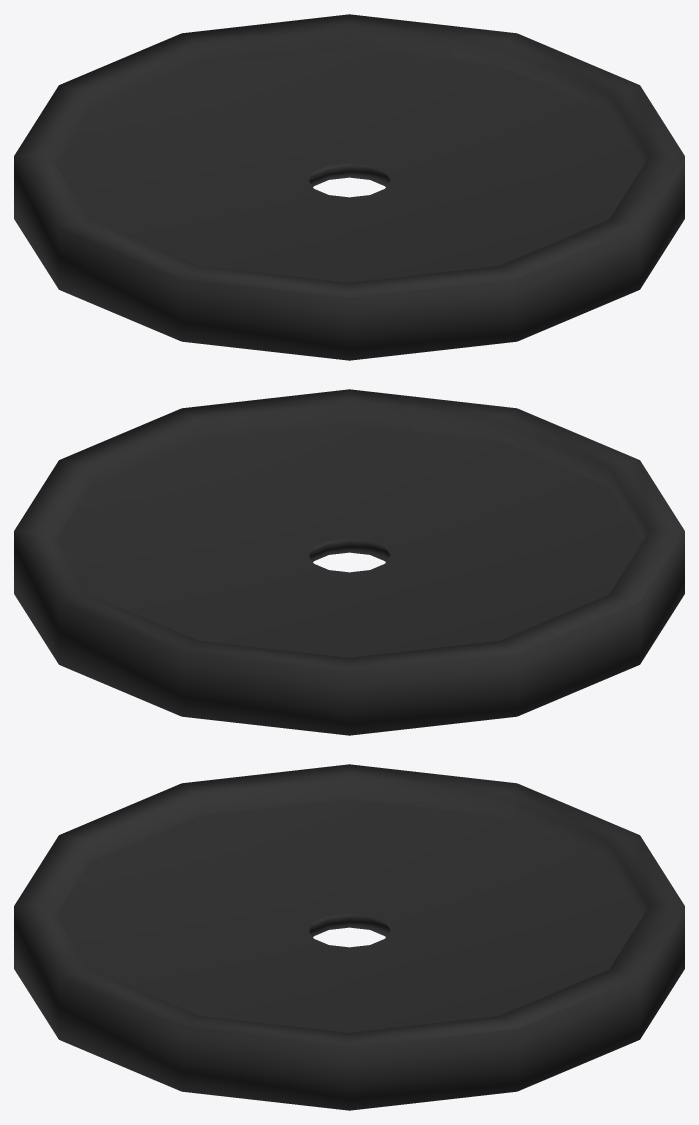
The model's file is BarbellPlateSingleLarge.glb.
The picture shows the model from 3 angles, top to bottom: view 1: azimuth 30°, elevation 25°; view 2: azimuth 150°, elevation 25°; view 3: azimuth 270°, elevation 25°; orthographic projection.
Visible parts, largest first — view 1: BarbellPlateSingleLarge; view 2: BarbellPlateSingleLarge; view 3: BarbellPlateSingleLarge.
Part boxes in pixels (x1,y1,x2,y2): BarbellPlateSingleLarge: (14, 14, 684, 360); BarbellPlateSingleLarge: (14, 389, 684, 735); BarbellPlateSingleLarge: (14, 764, 684, 1110).
Bounding box in the file's own units: 0.846 × 0.0873 × 0.846.
Materials: 1 (1 with a texture image).
